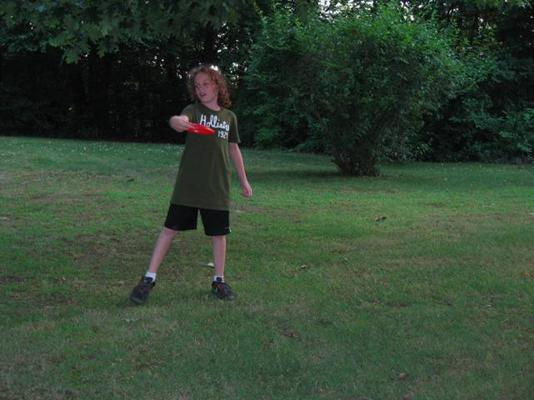person: (130, 64, 253, 307)
